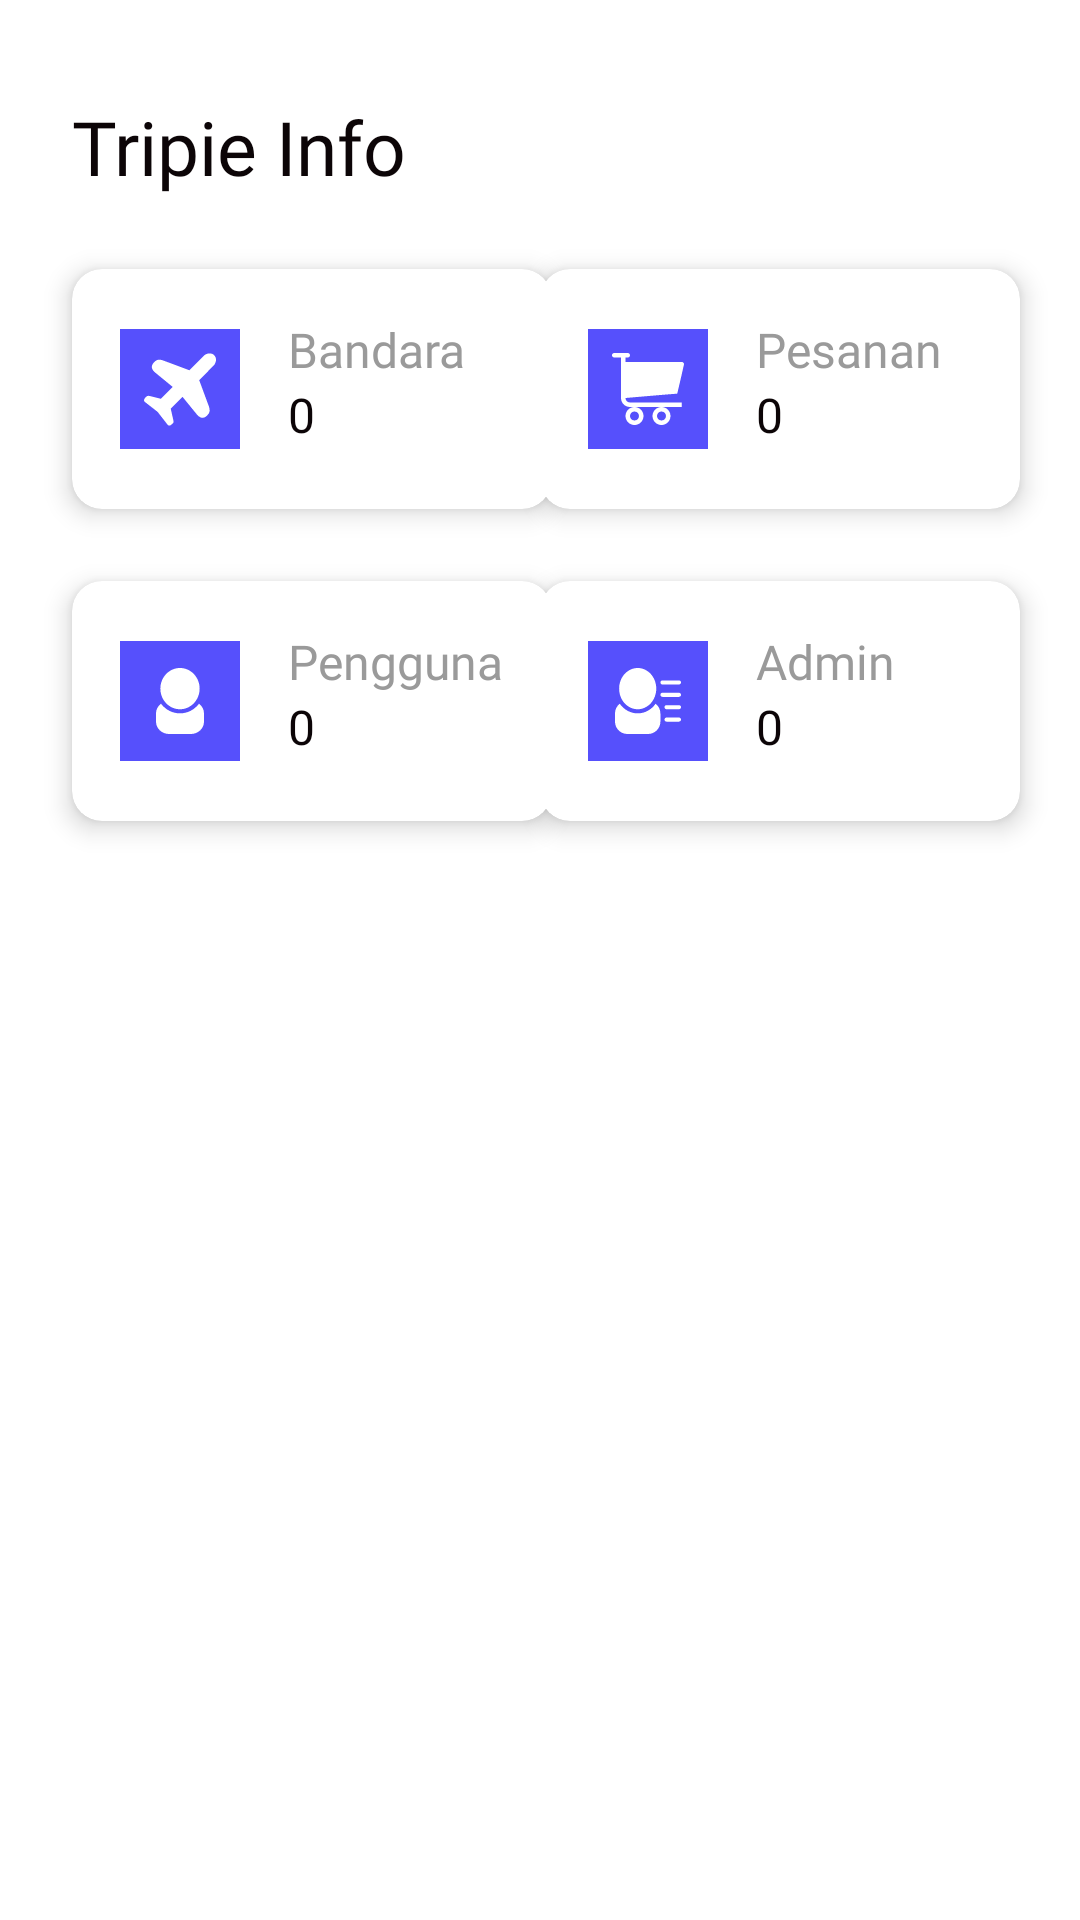

Locate icon controls on the screen. Image size 1080px×1920px, boxes as (x1, y1, x2, y2).
plane: (120, 329, 240, 449)
trolly: (588, 329, 708, 449)
